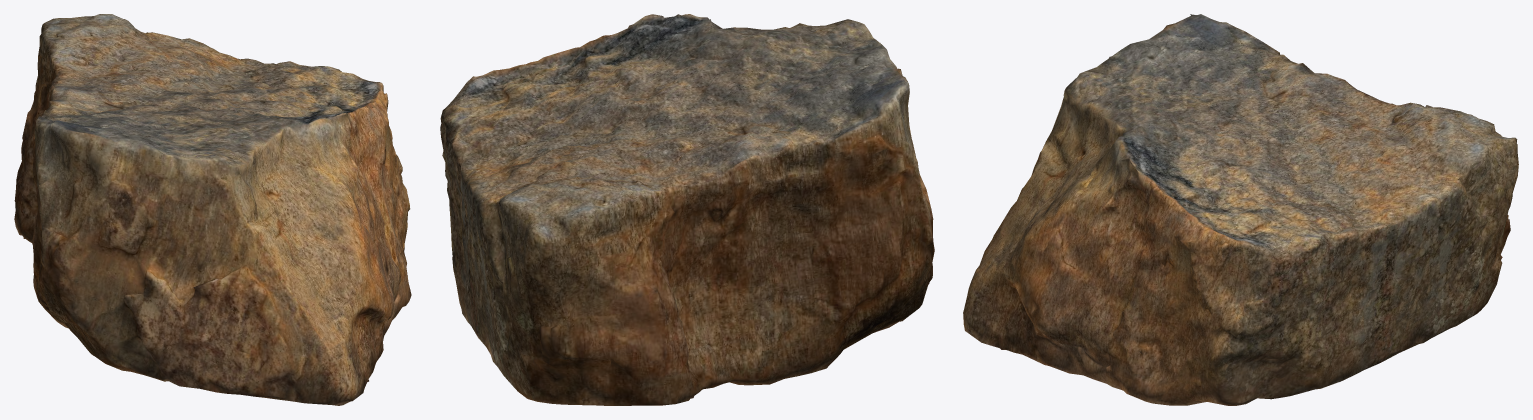
File: boulder.glb
3 views of the same model, side by side, from view 1: azimuth 30°, elevation 25°; view 2: azimuth 150°, elevation 25°; view 3: azimuth 270°, elevation 25° (orthographic). The views are drawn at different scales.
Parts seen in each view (by area): view 1: boulder_03_LOD0; view 2: boulder_03_LOD0; view 3: boulder_03_LOD0.
Part boxes in pixels (x1,y1,x2,y2): boulder_03_LOD0: (14, 14, 411, 405); boulder_03_LOD0: (440, 14, 934, 405); boulder_03_LOD0: (963, 14, 1518, 405).
Bounding box in the file's own units: 2.4 × 1.47 × 3.06.
1 material, 1 textured.
